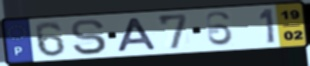1: (256, 7, 277, 46)
6: (33, 20, 68, 59), (204, 11, 235, 48)
7: (156, 13, 192, 51)
A: (115, 16, 159, 53)
S: (69, 18, 109, 56)
